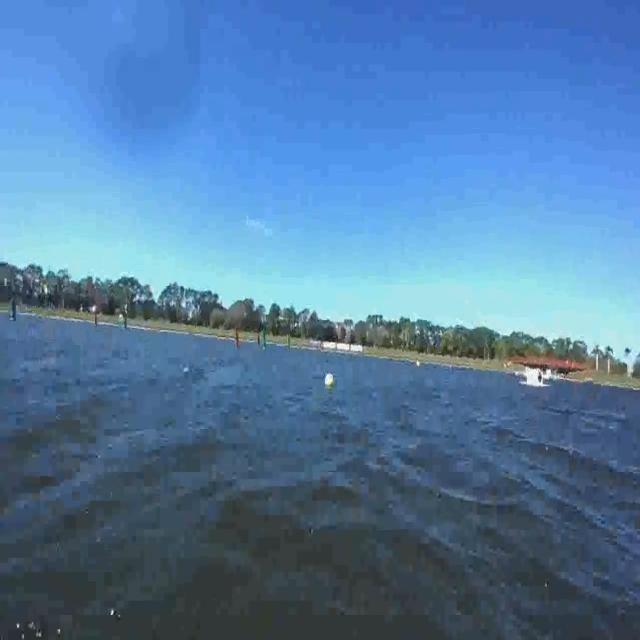green-column-buoy: (263, 328, 269, 351)
red-column-buoy: (233, 327, 240, 349), (256, 331, 260, 349)
yellow-buoy: (325, 373, 334, 389)
